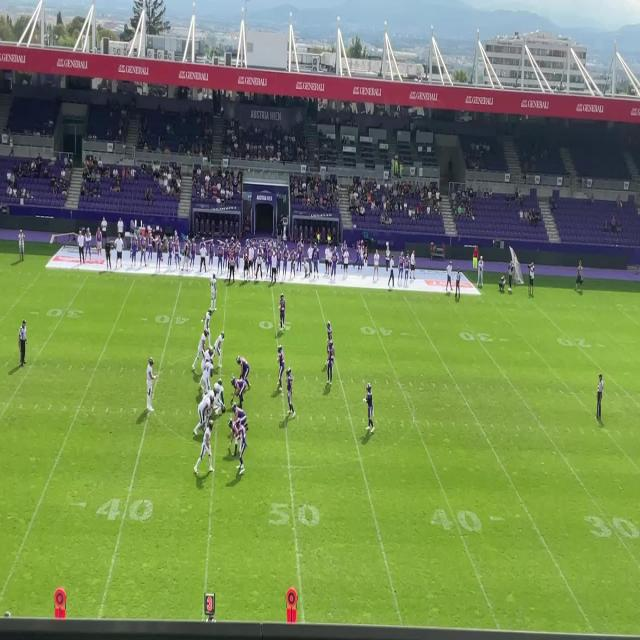3: (581, 508, 613, 544)
4: (428, 504, 456, 536), (96, 494, 122, 525)
5: (267, 498, 292, 532)
american-football-players: (194, 420, 215, 478), (194, 389, 214, 434), (283, 366, 299, 422), (362, 382, 376, 438), (228, 419, 248, 456), (145, 356, 157, 414), (236, 353, 252, 392), (236, 416, 246, 478), (232, 400, 250, 434), (193, 329, 208, 368), (213, 377, 226, 417), (231, 375, 247, 407), (201, 310, 213, 348), (213, 329, 224, 370), (326, 338, 335, 388), (202, 358, 213, 395), (276, 343, 284, 390), (210, 273, 218, 311), (279, 291, 286, 331), (325, 318, 333, 352), (206, 384, 218, 406), (202, 346, 215, 366)
